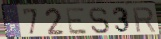2: (44, 7, 67, 37)
3: (111, 6, 133, 35)
7: (22, 8, 40, 36)
E: (64, 7, 89, 36)
R: (132, 7, 158, 34)
S: (88, 7, 112, 35)
